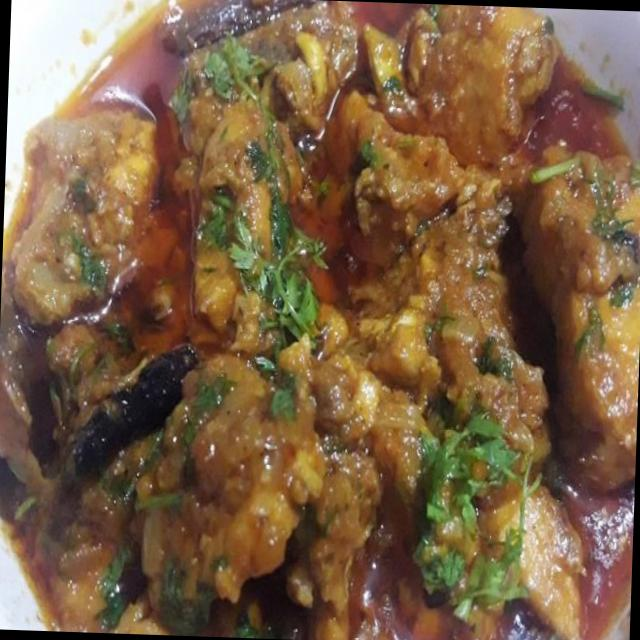chicken: (4, 15, 638, 634)
